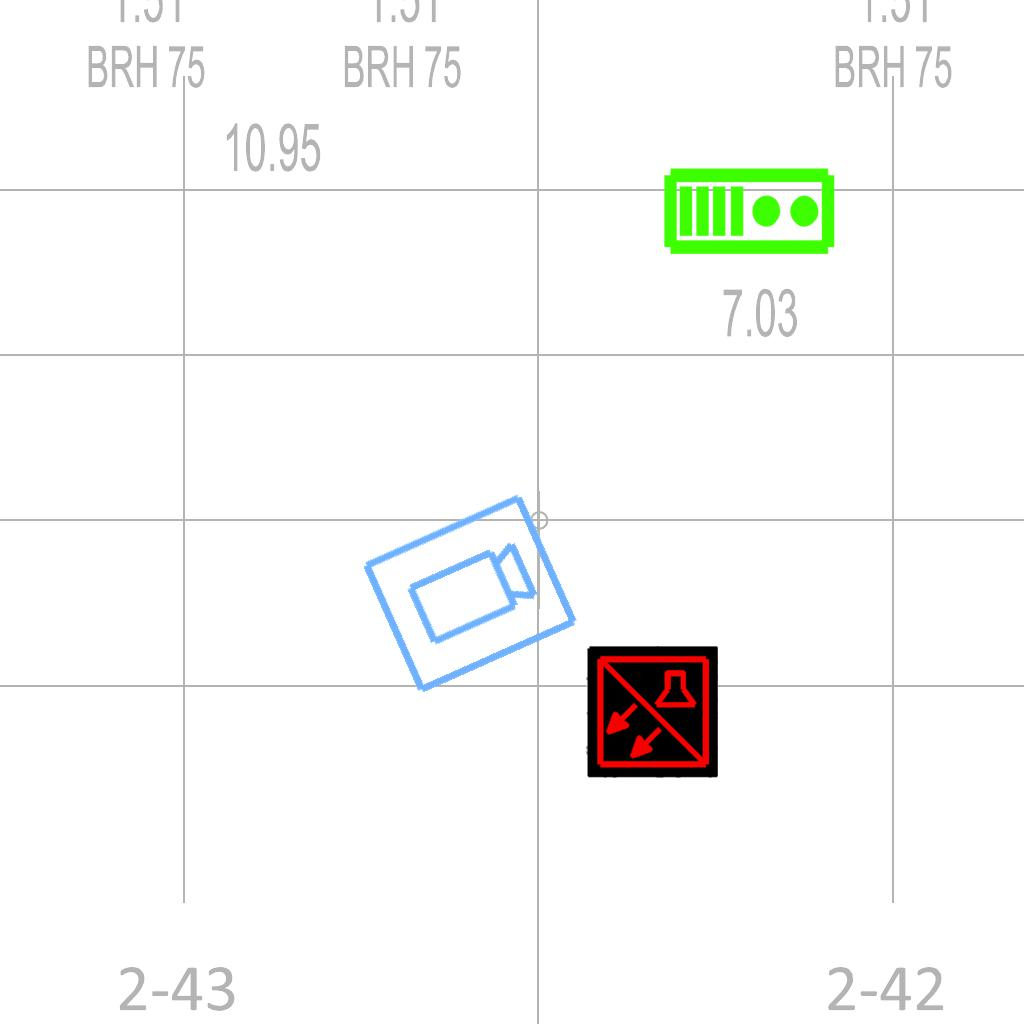Gegensprechanlage_mit_Video: (662, 162, 838, 257)
KFO_Kamera_mit_Festobjektiv: (355, 487, 585, 703)
OKW_Multisensormelder_(Kombination_optischer_Rauch-Kahlenmonoxid_Waerme-Melder): (586, 646, 718, 778)
